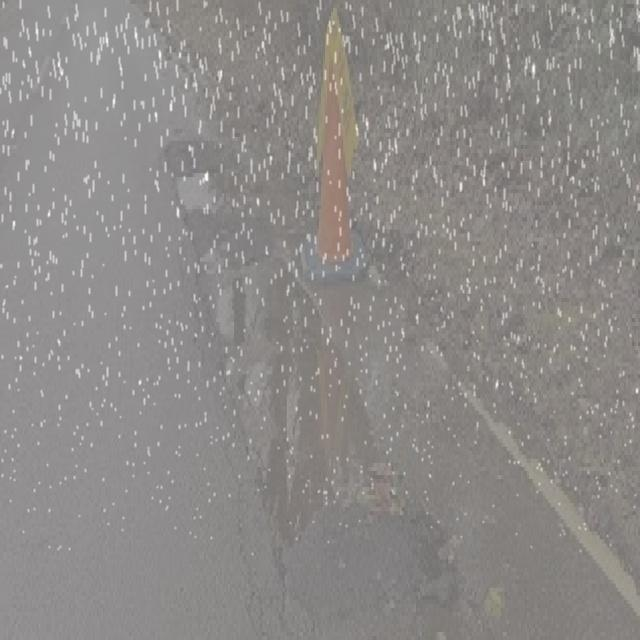Pothole: (183, 226, 419, 551), (160, 134, 252, 219)
